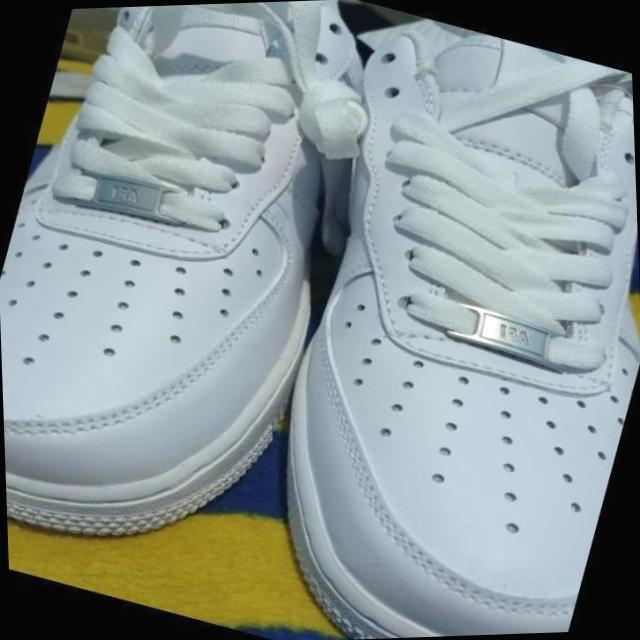nike_original_airforce: (197, 0, 640, 640), (0, 0, 423, 590)
